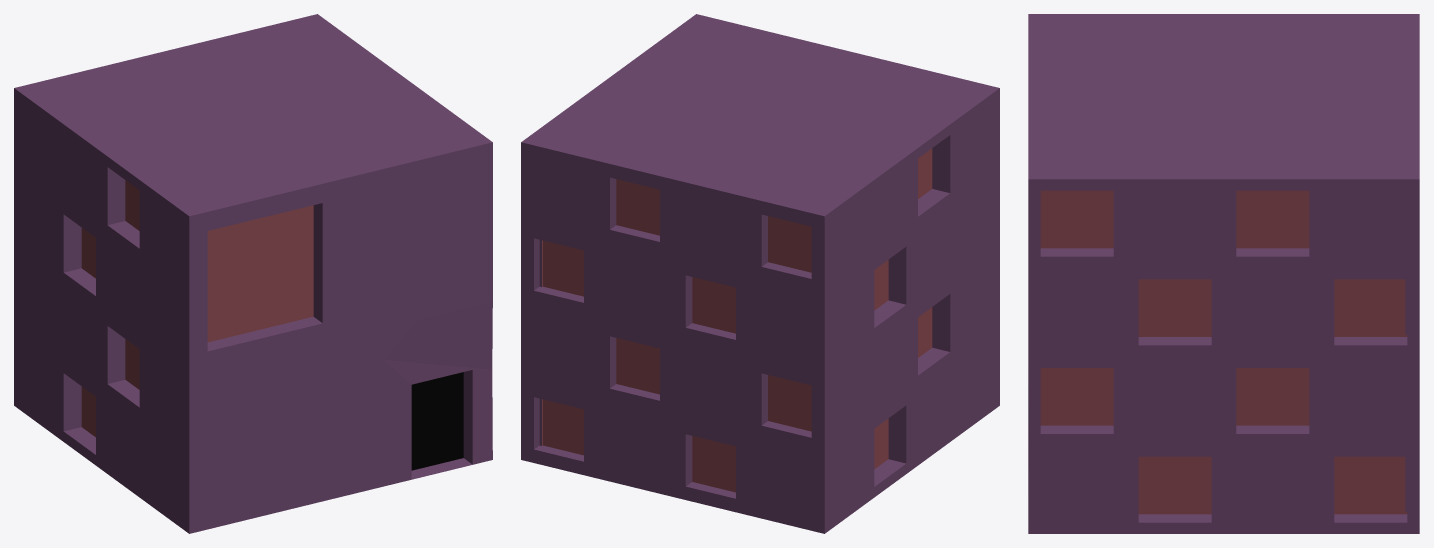
Rendered from PredioVini3.fbx.
The picture shows the model from 3 angles, left to right: view 1: azimuth 30°, elevation 25°; view 2: azimuth 150°, elevation 25°; view 3: azimuth 270°, elevation 25°; orthographic projection. The views are drawn at different scales.
Parts seen in each view (by area): view 1: Cube; view 2: Cube; view 3: Cube.
Part boxes in pixels (x1=…): Cube: x1=14, y1=14, x2=492, y2=533; Cube: x1=521, y1=14, x2=999, y2=533; Cube: x1=1028, y1=14, x2=1419, y2=533.
Size of the model in its own units: 247 by 247 by 247.
